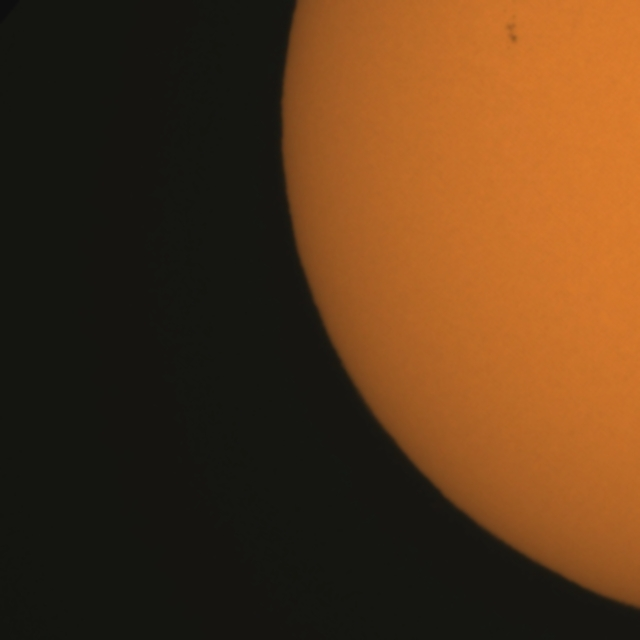sunspot: (502, 11, 520, 47)
